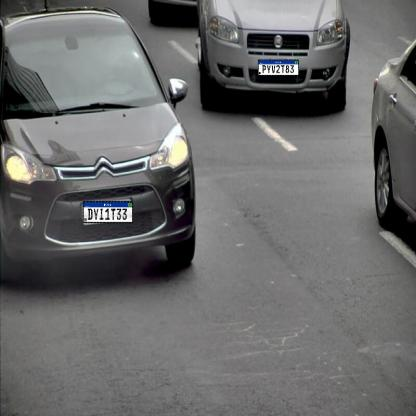PlacaM: (83, 201, 133, 223), (258, 60, 299, 76)
